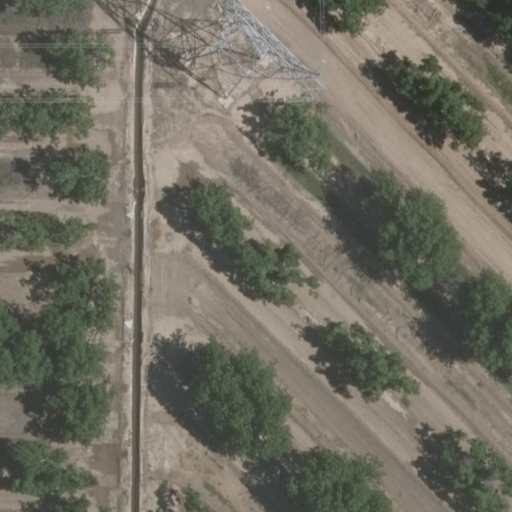TT: (182, 4, 333, 113)
